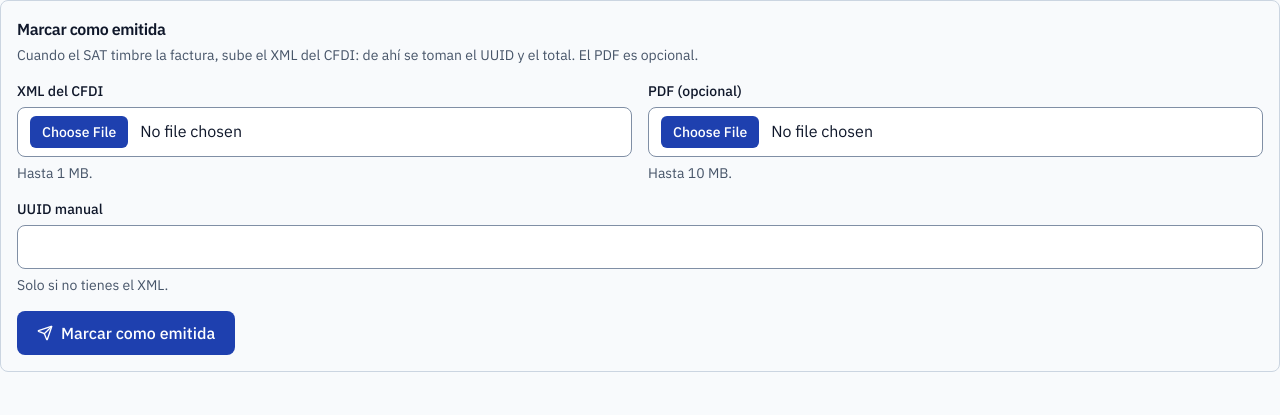
IssuePanel › requires an XML or a UUID
This screenshot has width=1280, height=415.
What coordinates should you click on to do the following:
click the button "Marcar como emitida"
I would click on:
 (126, 333)
Its box is [17, 311, 235, 355].
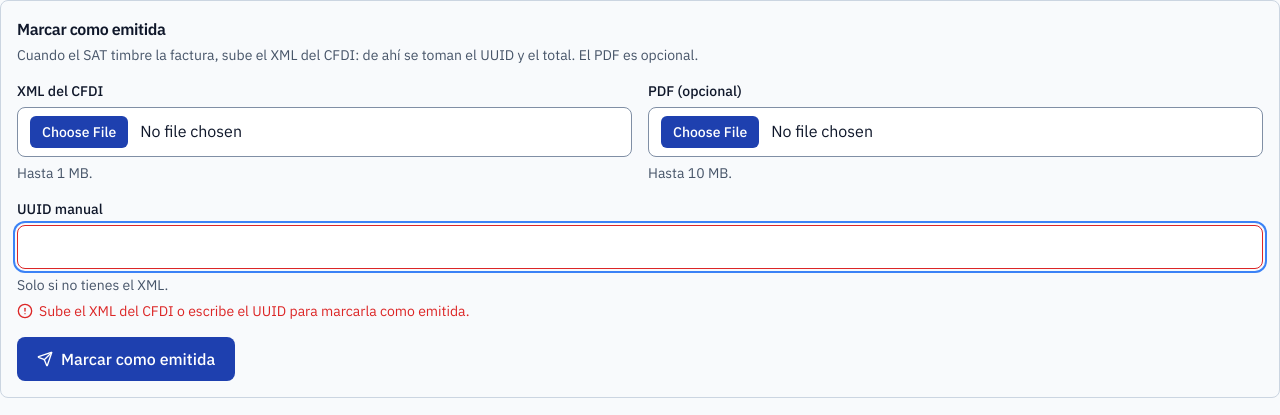
Result: the message shows "Sube el XML del CFDI o escribe el UUID" at [39, 302, 470, 320]
